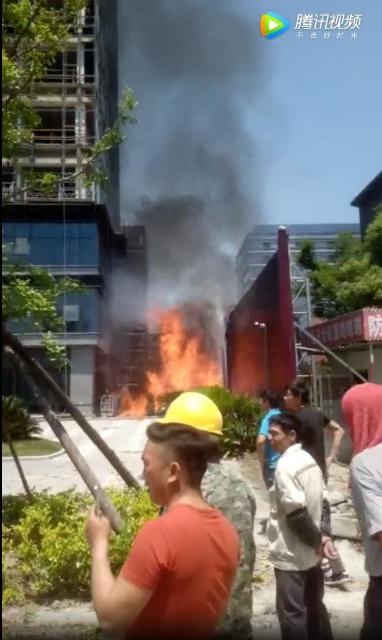fire: (177, 342, 221, 386), (159, 322, 178, 388), (115, 394, 146, 416), (143, 369, 160, 395)
